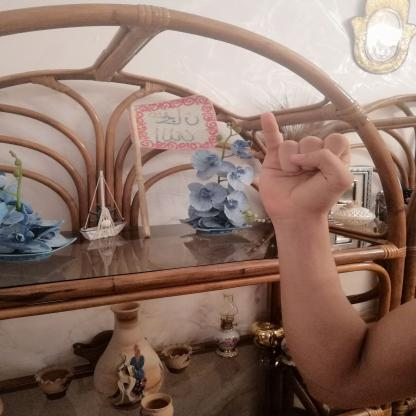MEEM: (238, 99, 371, 229)
